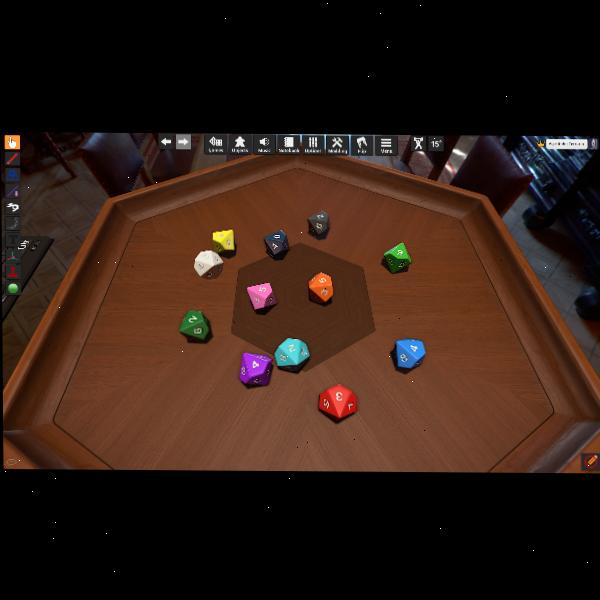d10: (318, 385, 356, 420), (273, 337, 308, 371), (239, 351, 272, 384), (179, 309, 210, 342), (394, 337, 423, 367), (194, 249, 224, 278), (384, 241, 410, 273), (248, 282, 277, 310), (308, 273, 332, 304), (263, 230, 288, 258), (308, 210, 329, 236), (212, 229, 233, 253)
